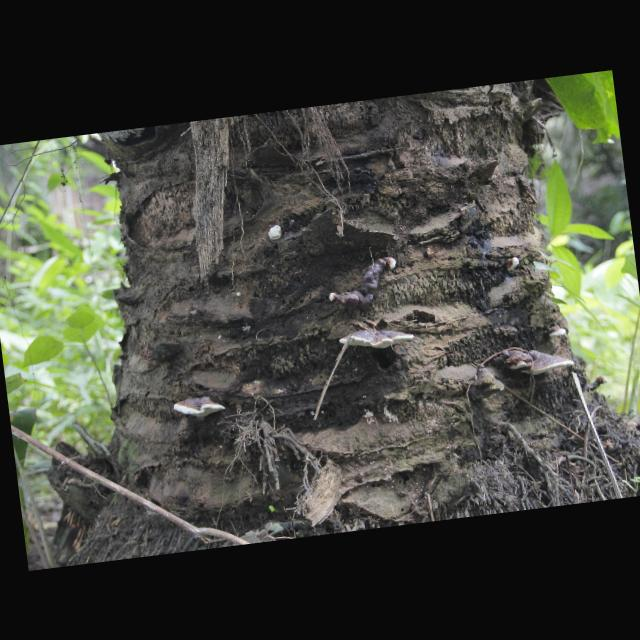ganoderma: (334, 259, 391, 315), (338, 324, 415, 355), (517, 346, 576, 379), (173, 395, 227, 422), (490, 349, 536, 374), (543, 326, 567, 340)
primordium: (268, 225, 284, 241), (505, 257, 521, 272), (386, 257, 398, 271), (596, 376, 609, 387), (328, 292, 338, 303), (237, 293, 242, 298)
